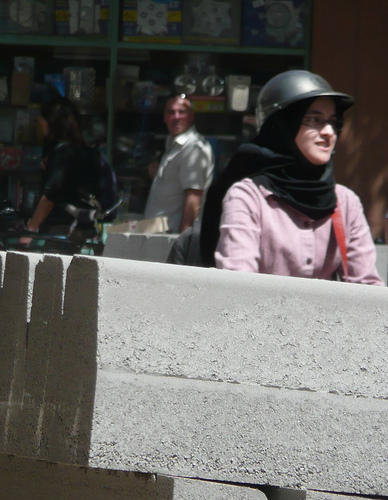helmet: (252, 72, 357, 123)
